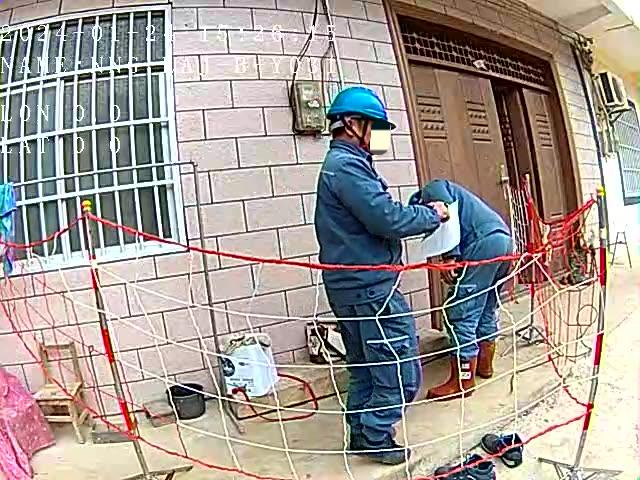halt: (330, 91, 396, 154)
inear: (343, 117, 375, 146)
